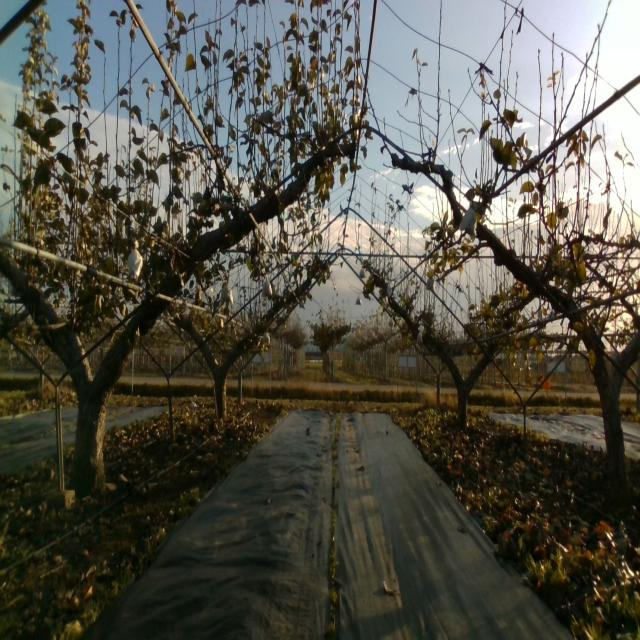pearbags: (458, 208, 481, 239), (126, 242, 145, 278), (218, 279, 234, 310), (262, 277, 275, 299)
